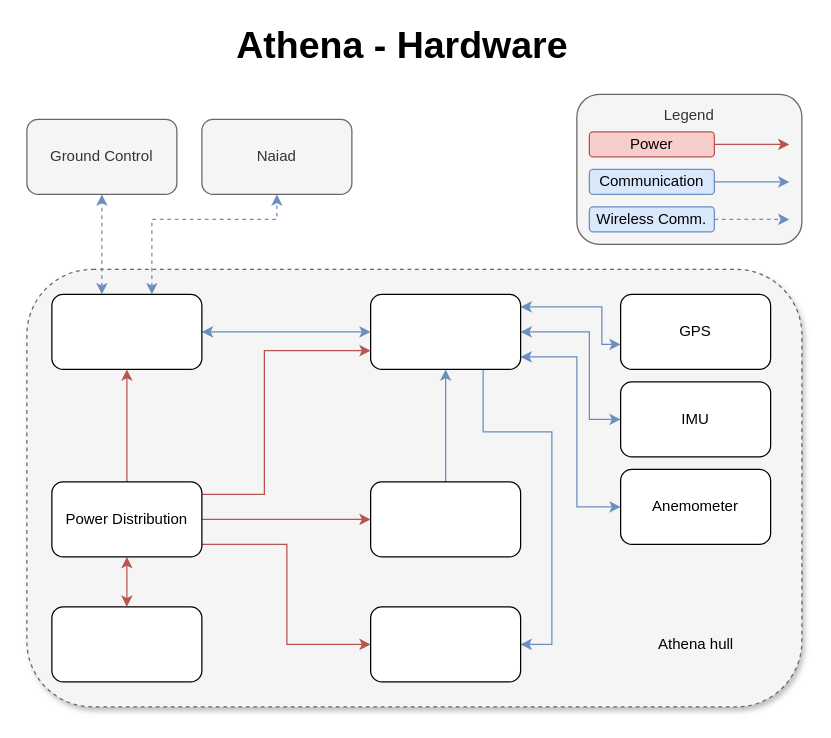
This 831x738 diagram has some shape labels left out. The shapes that lost their labels are listed below. From the top down, each one's centre as x and y in pixels, then its label:
the point at 126,331: Router
the point at 445,331: SBC
the point at 445,519: Battery warning system
the point at 126,644: Battery
the point at 445,644: Sonar Sender
